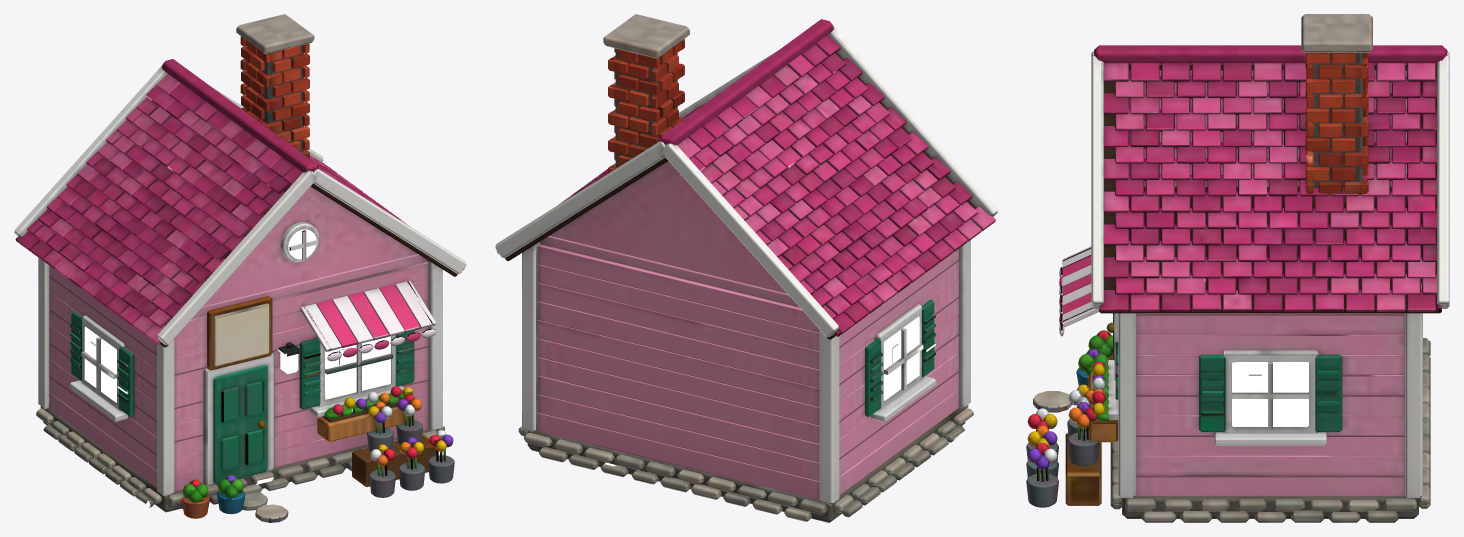
The model's file is florist.glb.
3 renders of one model, left to right at view 1: azimuth 30°, elevation 25°; view 2: azimuth 150°, elevation 25°; view 3: azimuth 270°, elevation 25°, orthographic. The views are drawn at different scales.
Visible parts, largest first — view 1: florist; view 2: florist; view 3: florist.
Part boxes in pixels (x1,y1,x2,y2): florist: (14,14,466,522); florist: (495,14,997,522); florist: (1026,14,1449,522).
Bounding box in the file's own units: 1.68 × 1.93 × 1.65.
Materials: 1 (1 with a texture image).
